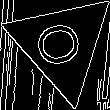O_E: (33, 18, 91, 71)
